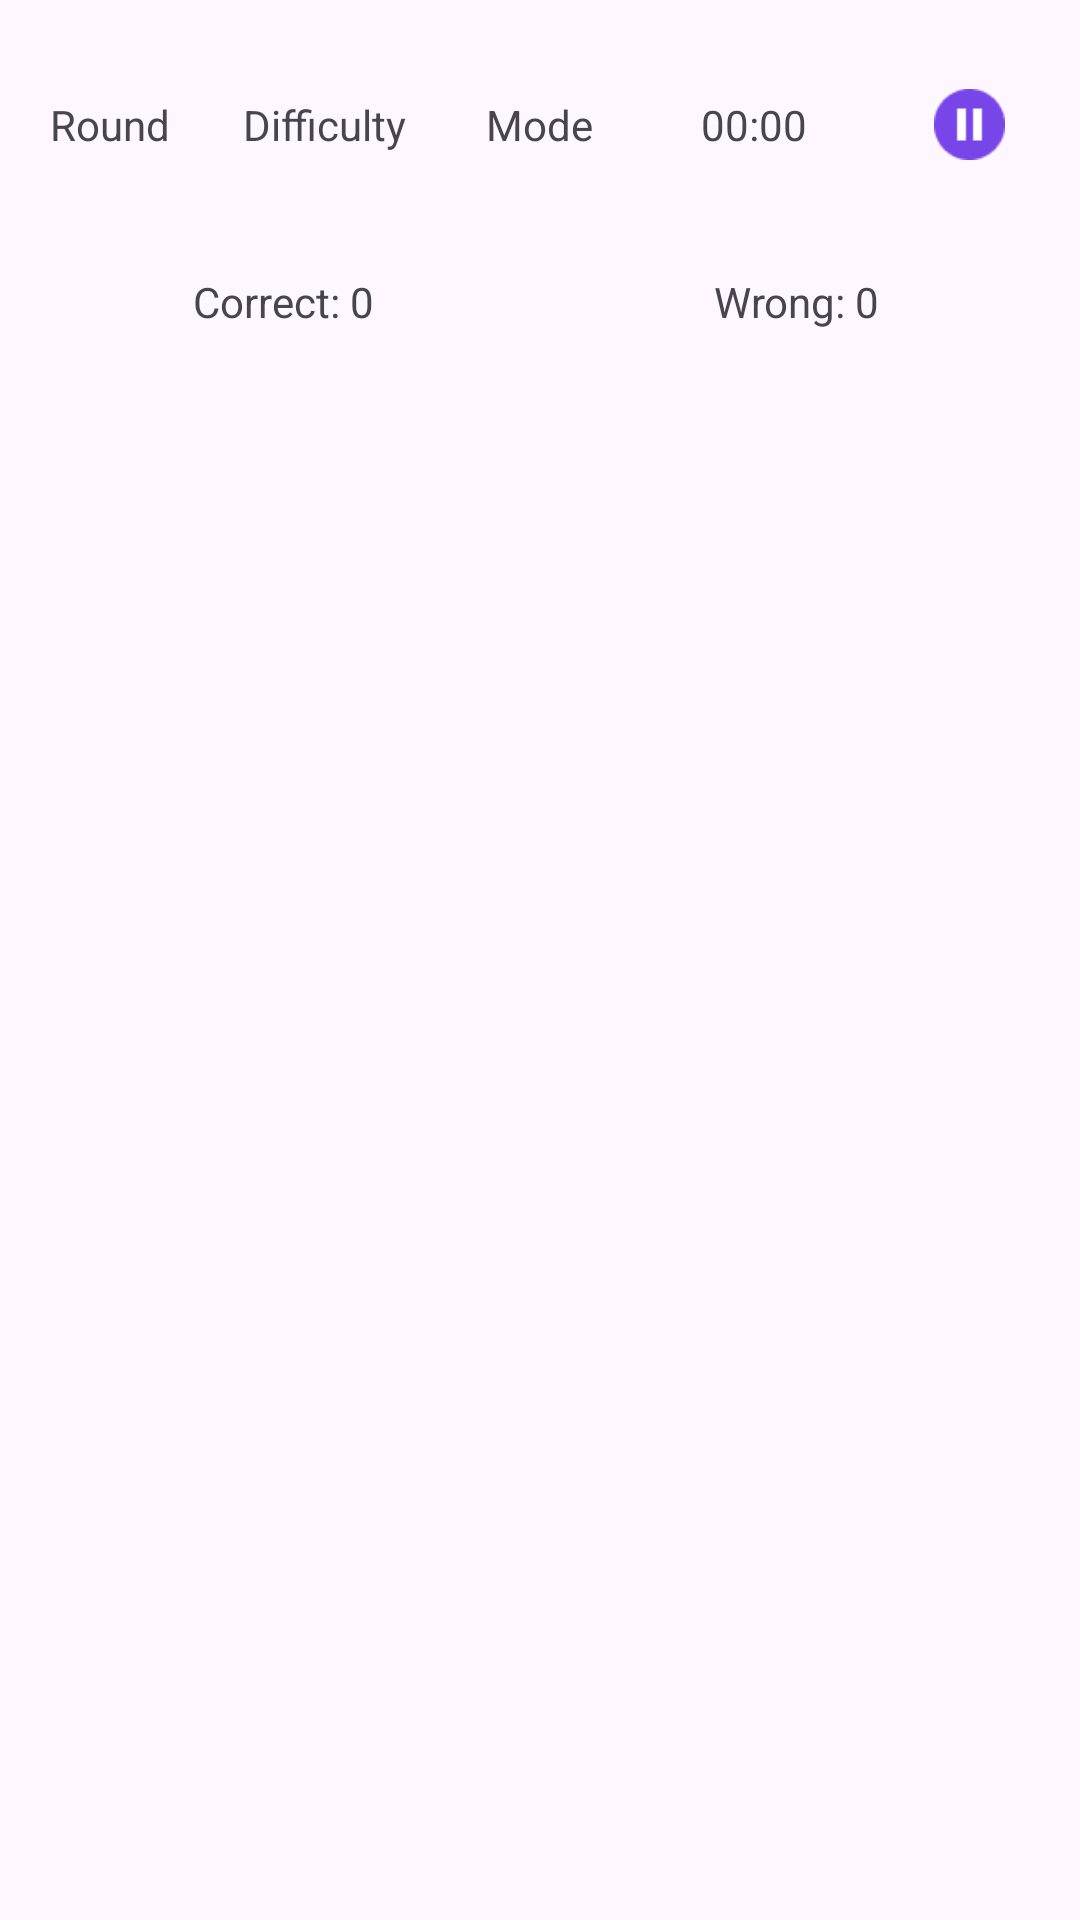

Screen size 1080 x 1920. Icon name, then its box in pixels as bbox(x1, y1, x2, y2):
pause: bbox(934, 89, 1005, 160)
